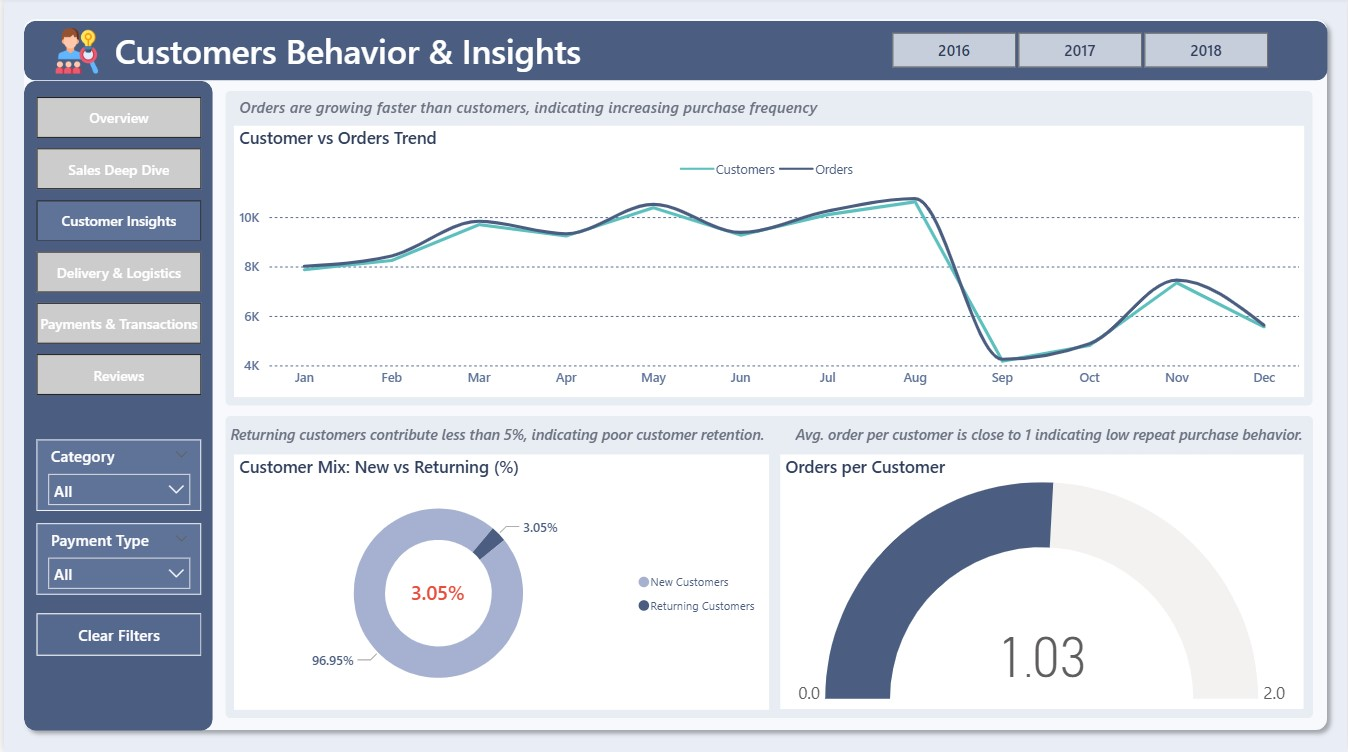

What the dashboard file says about the page in this screenshot:
{"tool":"powerbi","page":{"name":"Customer Insights","canvas":[1280,720],"ordinal":2},"visuals":[{"type":"shape","box":[9.5,11.9,1259.5,695.2],"z":0},{"type":"shape","box":[19,22.6,1241.7,57.1],"z":1000},{"type":"textbox","box":[91.7,25,600,54.8],"z":2000},{"type":"slicer","fields":{"Values":["DimDate.Year"]},"box":[823.8,31,400,39.3],"z":3000},{"type":"shape","box":[19,79.8,179.8,619.1],"z":4000},{"type":"slicer","fields":{"Values":["bi_fact_sales_full.category"]},"box":[31,421.4,157.1,67.9],"z":5000},{"type":"slicer","fields":{"Values":["bi_fact_sales_full.payment_type"]},"box":[31,501.2,157.1,67.9],"z":6000},{"type":"actionButton","box":[31,586.9,157.1,40.5],"z":7000},{"type":"shape","box":[210.7,89.3,1035.7,300],"z":8000},{"type":"shape","box":[210.8,399,1036.1,288.2],"z":9000},{"type":"lineChart","title":"Customer vs Orders Trend","fields":{"Category":["DimDate.Month"],"Y":["bi_fact_sales_full.Customers","bi_fact_sales_full.Orders"]},"box":[219.1,122.7,1019.4,258.4],"z":10000},{"type":"textbox","box":[219.1,89.3,658.6,33.3],"z":11000},{"type":"donutChart","title":"Customer Mix: New vs Returning (%)","fields":{"Y":["bi_fact_sales_full.New Customers","bi_fact_sales_full.Returning Customers"]},"box":[219.1,435.9,509.7,242.9],"z":12000},{"type":"textbox","box":[210.7,402.4,531,33.3],"z":13000},{"type":"card","fields":{"Values":["bi_fact_sales_full.Returning %"]},"box":[369,552.4,88.1,33.3],"z":14000},{"type":"gauge","fields":{"Y":["bi_fact_sales_full.Orders per Customer"]},"box":[739.7,436.2,498.3,242.8],"z":15000},{"type":"textbox","box":[748.8,402.4,531,33.3],"z":16000},{"type":"pageNavigator","box":[31,95.2,157.1,284.5],"z":17000},{"type":"image","box":[19,29.8,101.2,42.9],"z":17001}]}

Visuals, with their boxes in screenshot pixels (x1, y1, x2, y2), scaled from the page's 1280x720 canvas onto the 1348x752 screenshot:
shape: left=10, top=12, right=1336, bottom=739
shape: left=20, top=24, right=1328, bottom=83
textbox: left=97, top=26, right=728, bottom=83
slicer - DimDate.Year: left=868, top=32, right=1289, bottom=73
shape: left=20, top=83, right=209, bottom=730
slicer - bi_fact_sales_full.category: left=33, top=440, right=198, bottom=511
slicer - bi_fact_sales_full.payment_type: left=33, top=523, right=198, bottom=594
actionButton: left=33, top=613, right=198, bottom=655
shape: left=222, top=93, right=1313, bottom=407
shape: left=222, top=417, right=1313, bottom=718
"Customer vs Orders Trend" lineChart: left=231, top=128, right=1304, bottom=398
textbox: left=231, top=93, right=924, bottom=128
"Customer Mix: New vs Returning (%)" donutChart: left=231, top=455, right=768, bottom=709
textbox: left=222, top=420, right=781, bottom=455
card - bi_fact_sales_full.Returning %: left=389, top=577, right=481, bottom=612
gauge - bi_fact_sales_full.Orders per Customer: left=779, top=456, right=1304, bottom=709
textbox: left=789, top=420, right=1347, bottom=455
pageNavigator: left=33, top=99, right=198, bottom=397
image: left=20, top=31, right=127, bottom=76
